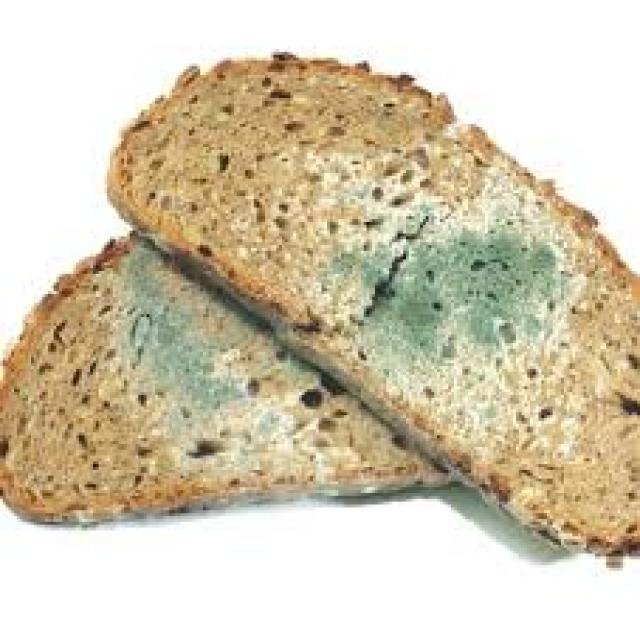organic waste: (102, 49, 637, 568), (3, 233, 454, 524)
